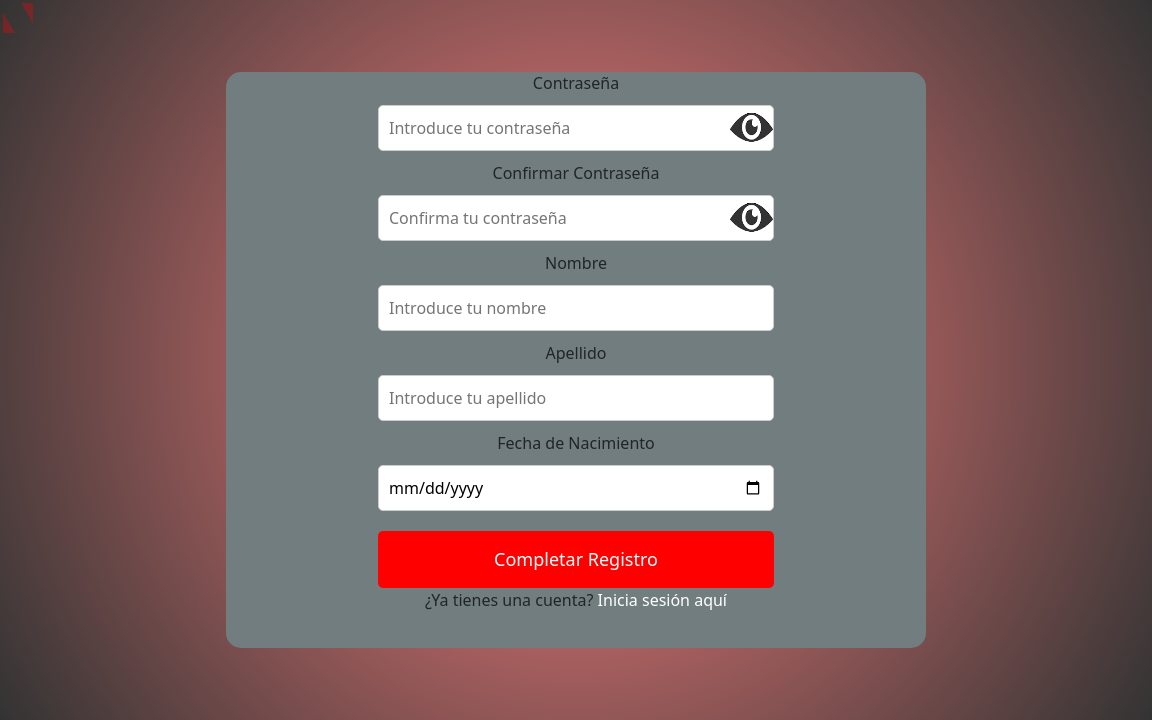
Test: Página de registro › Muestra error si el apellido contiene caracteres no válidos
The width and height of the screenshot is (1152, 720).
(page scrolled)
Type "<script>alert(\"hack\")</script>" into the field with id "apellido" at (576, 398), box [378,375,774,421]
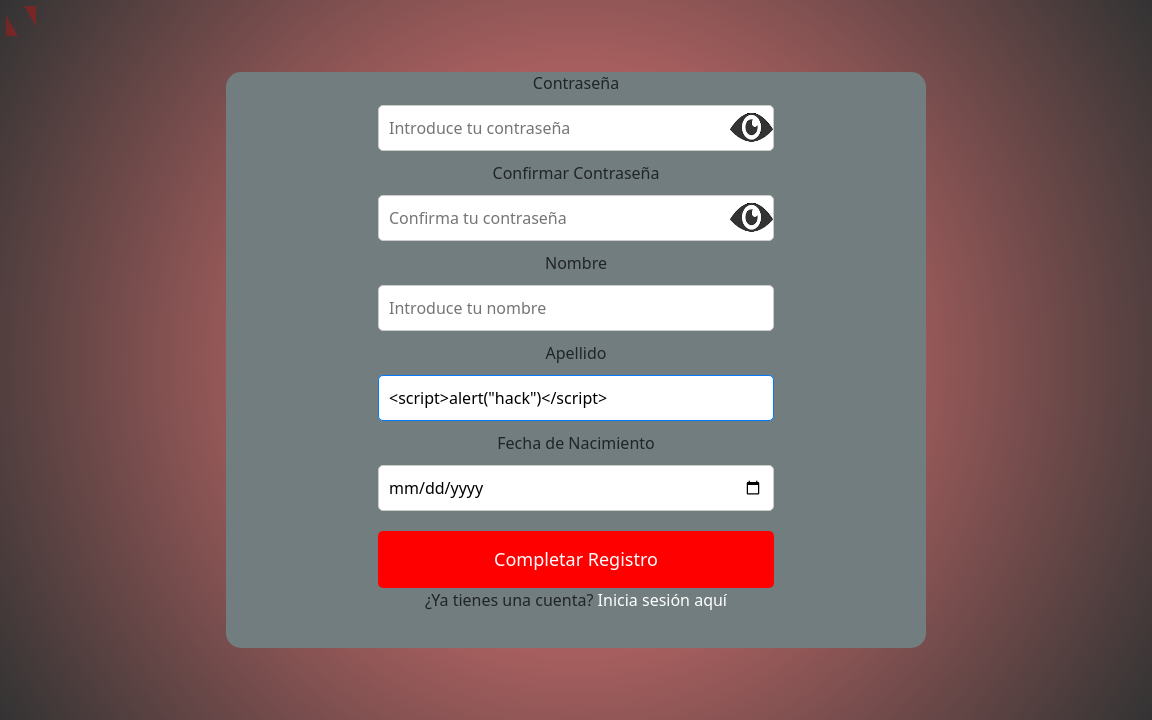
Click the submit button at (576, 560), box [378,531,774,588]
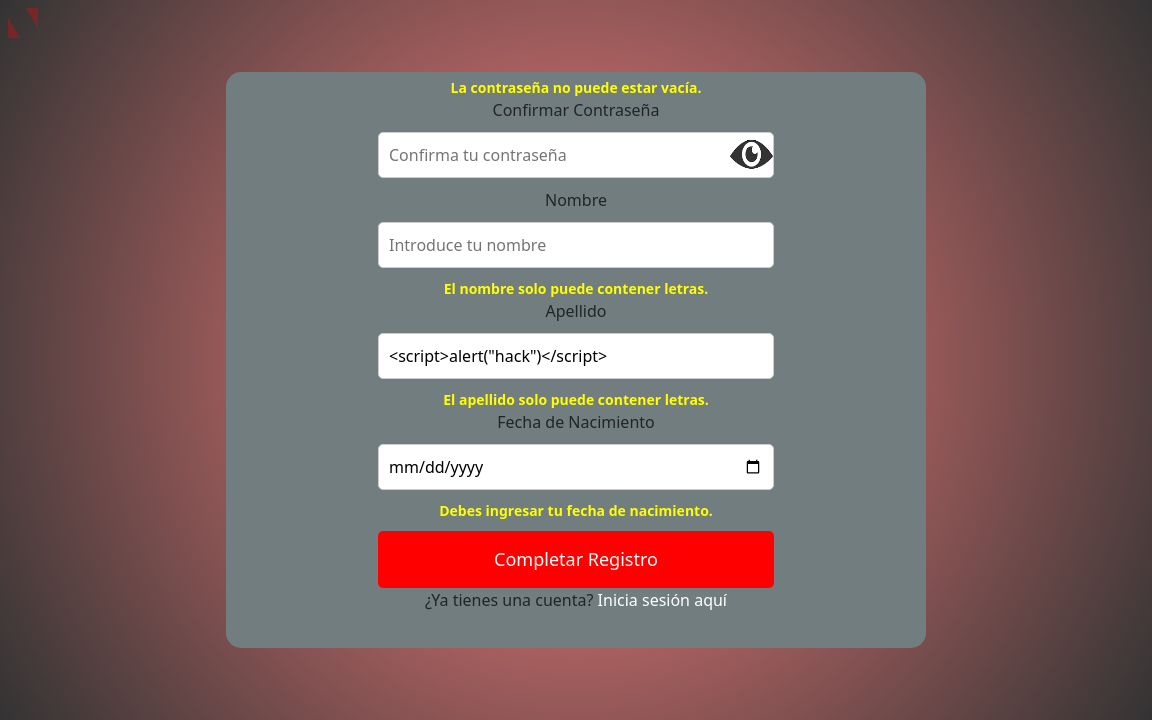
Expected: the text "El apellido solo puede contener letras." is shown, [443,390,709,409]
